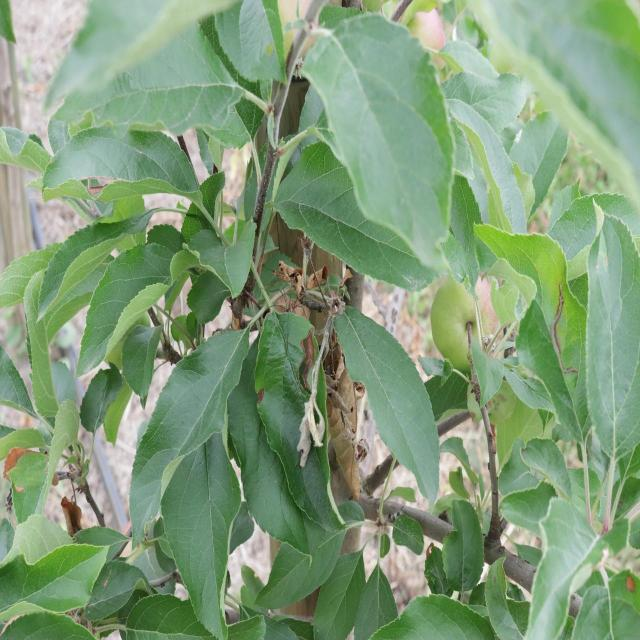-FireBlight-: (323, 336, 368, 500), (277, 260, 341, 300)
